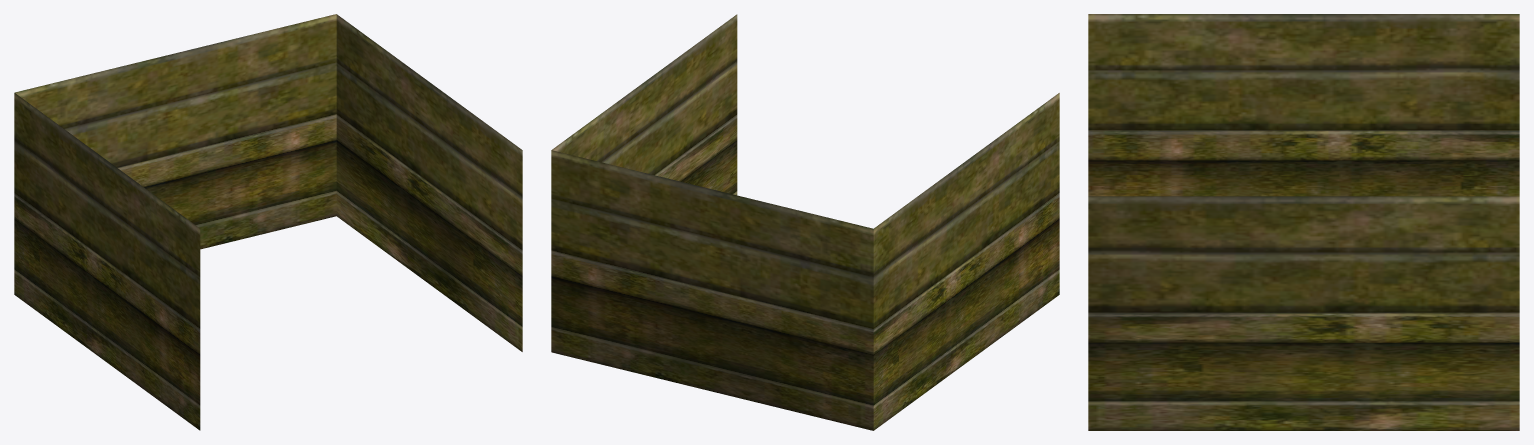
Rendered from OVERHILL_A_01_OBJECT108.fbx.
The picture shows the model from 3 angles, left to right: view 1: azimuth 30°, elevation 25°; view 2: azimuth 150°, elevation 25°; view 3: azimuth 270°, elevation 25°; orthographic projection. The views are drawn at different scales.
Visible parts, largest first — view 1: OVERHILL_A_01_OBJECT108; view 2: OVERHILL_A_01_OBJECT108; view 3: OVERHILL_A_01_OBJECT108.
Boxes of the visible parts, x1,y1,x2,y2 form: OVERHILL_A_01_OBJECT108: [14, 14, 522, 430]; OVERHILL_A_01_OBJECT108: [551, 14, 1059, 430]; OVERHILL_A_01_OBJECT108: [1088, 14, 1519, 430].
Size of the model in its own units: 20000 by 12000 by 20000.
2 materials, 2 textured.
